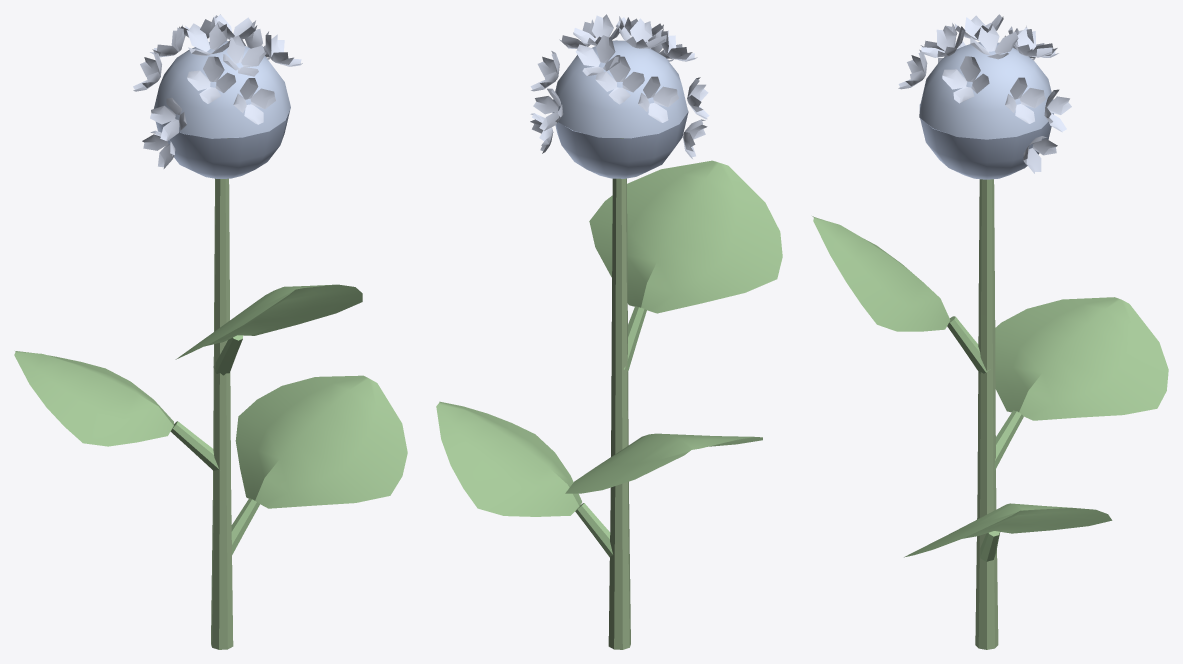
File: hydrangea.glb
3 renders of one model, left to right at view 1: azimuth 30°, elevation 25°; view 2: azimuth 150°, elevation 25°; view 3: azimuth 270°, elevation 25°, orthographic.
Parts seen in each view (by area): view 1: foliage, flower, stem; view 2: foliage, flower, stem; view 3: foliage, flower, stem.
Boxes of the visible parts, bbox=[...] form: foliage: bbox=[14, 284, 407, 554]; flower: bbox=[133, 14, 302, 178]; stem: bbox=[211, 138, 233, 649]; foliage: bbox=[436, 160, 782, 557]; flower: bbox=[530, 14, 709, 178]; stem: bbox=[608, 138, 630, 649]; foliage: bbox=[812, 216, 1168, 561]; flower: bbox=[898, 14, 1071, 179]; stem: bbox=[975, 179, 998, 649].
Size of the model in its own units: 0.38 by 0.6978 by 0.3638.
